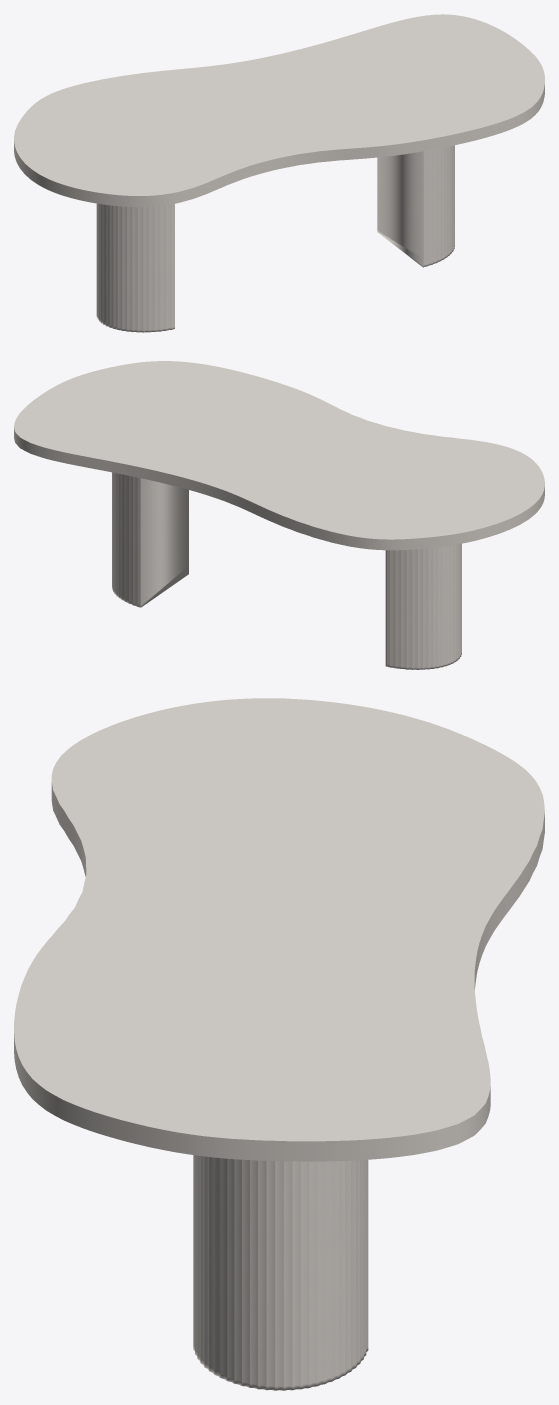
Rendered from pearlwhite_wave_standard_flute.glb.
3 renders of one model, top to bottom at view 1: azimuth 30°, elevation 25°; view 2: azimuth 150°, elevation 25°; view 3: azimuth 270°, elevation 25°, orthographic. The views are drawn at different scales.
Parts seen in each view (by area): view 1: standard_wave, flute; view 2: standard_wave, flute; view 3: standard_wave, flute.
Part boxes in pixels (left/top/right/bottom): standard_wave: left=14, top=14, right=544, bottom=207; flute: left=96, top=145, right=454, bottom=332; standard_wave: left=14, top=361, right=544, bottom=550; flute: left=112, top=472, right=461, bottom=669; standard_wave: left=14, top=698, right=544, bottom=1161; flute: left=193, top=1155, right=368, bottom=1390.
Size of the model in its own units: 7.5 by 2.5 by 3.8.
Materials: 1 (1 with a texture image).
